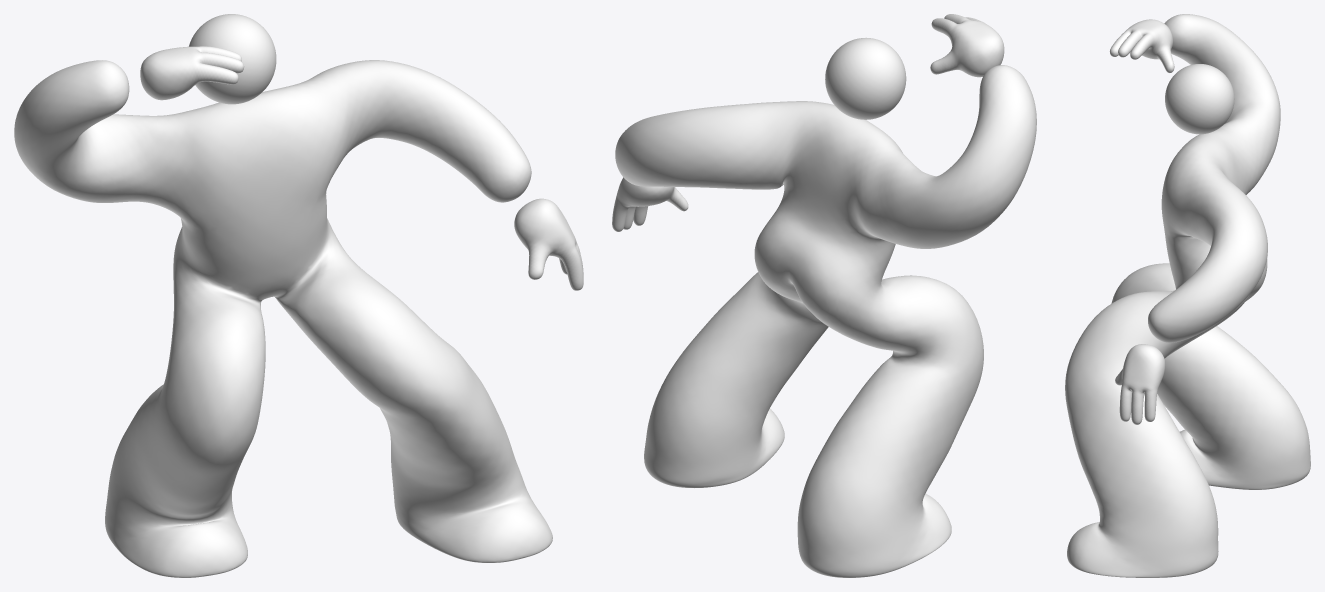
File: K2-man2.gltf
3 renders of one model, left to right at view 1: azimuth 30°, elevation 25°; view 2: azimuth 150°, elevation 25°; view 3: azimuth 270°, elevation 25°, orthographic. The views are drawn at different scales.
Parts seen in each view (by area): view 1: k2-man2; view 2: k2-man2; view 3: k2-man2.
Part boxes in pixels (x1,y1,x2,y2): k2-man2: [14, 14, 583, 577]; k2-man2: [612, 14, 1036, 577]; k2-man2: [1065, 14, 1310, 577].
Bounding box in the file's own units: 28.64 × 29.7 × 15.61.
1 material, 1 textured.
